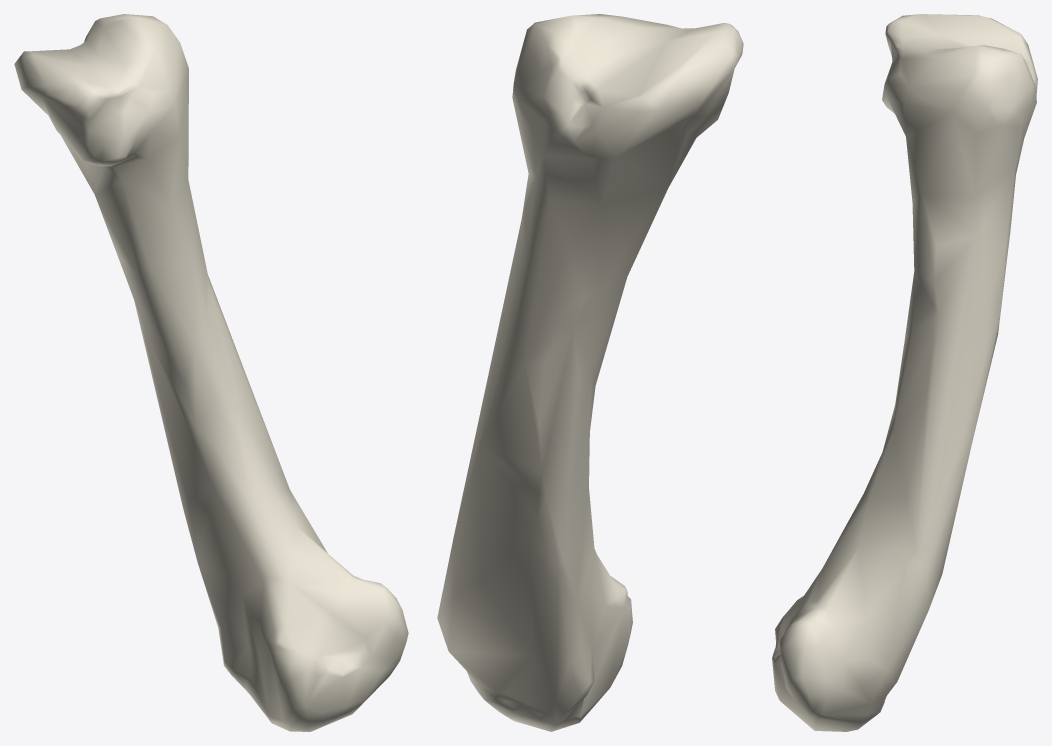
3 renders of one model, left to right at view 1: azimuth 30°, elevation 25°; view 2: azimuth 150°, elevation 25°; view 3: azimuth 270°, elevation 25°, orthographic. The views are drawn at different scales.
Visible parts, largest first — view 1: ZA_1557e03b4112dd70; view 2: ZA_1557e03b4112dd70; view 3: ZA_1557e03b4112dd70.
Boxes of the visible parts, <box> form: ZA_1557e03b4112dd70: <box>14,14,408,731</box>; ZA_1557e03b4112dd70: <box>437,14,743,731</box>; ZA_1557e03b4112dd70: <box>772,14,1037,731</box>.
Bounding box in the file's own units: 0.0321 × 0.0705 × 0.0267.
